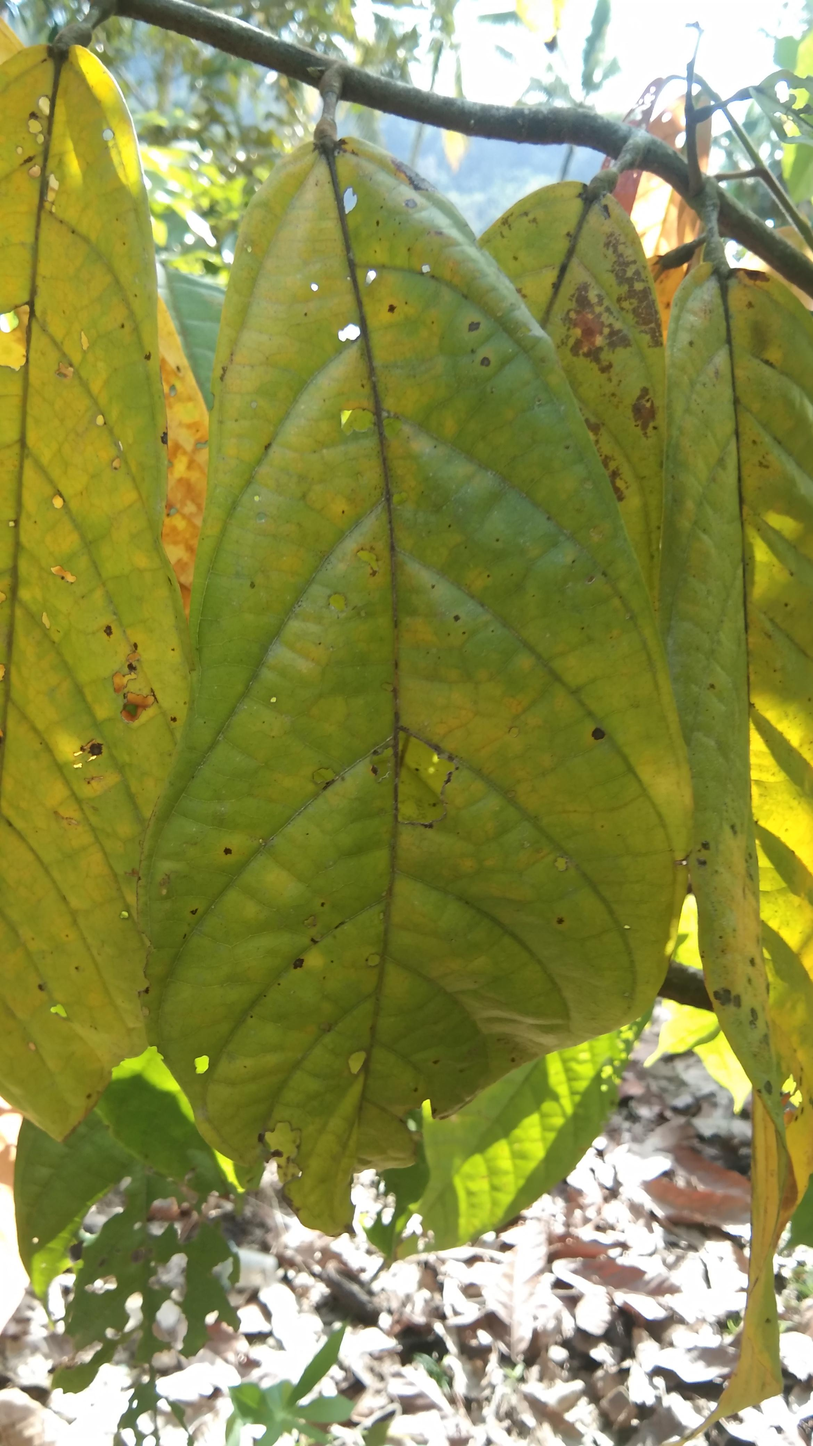deficiencia_potasio: (110, 123, 717, 1265)
